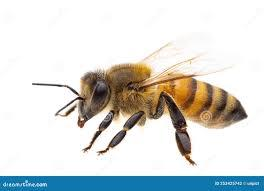Apis-mellifera-scutellata: (31, 39, 248, 168)
